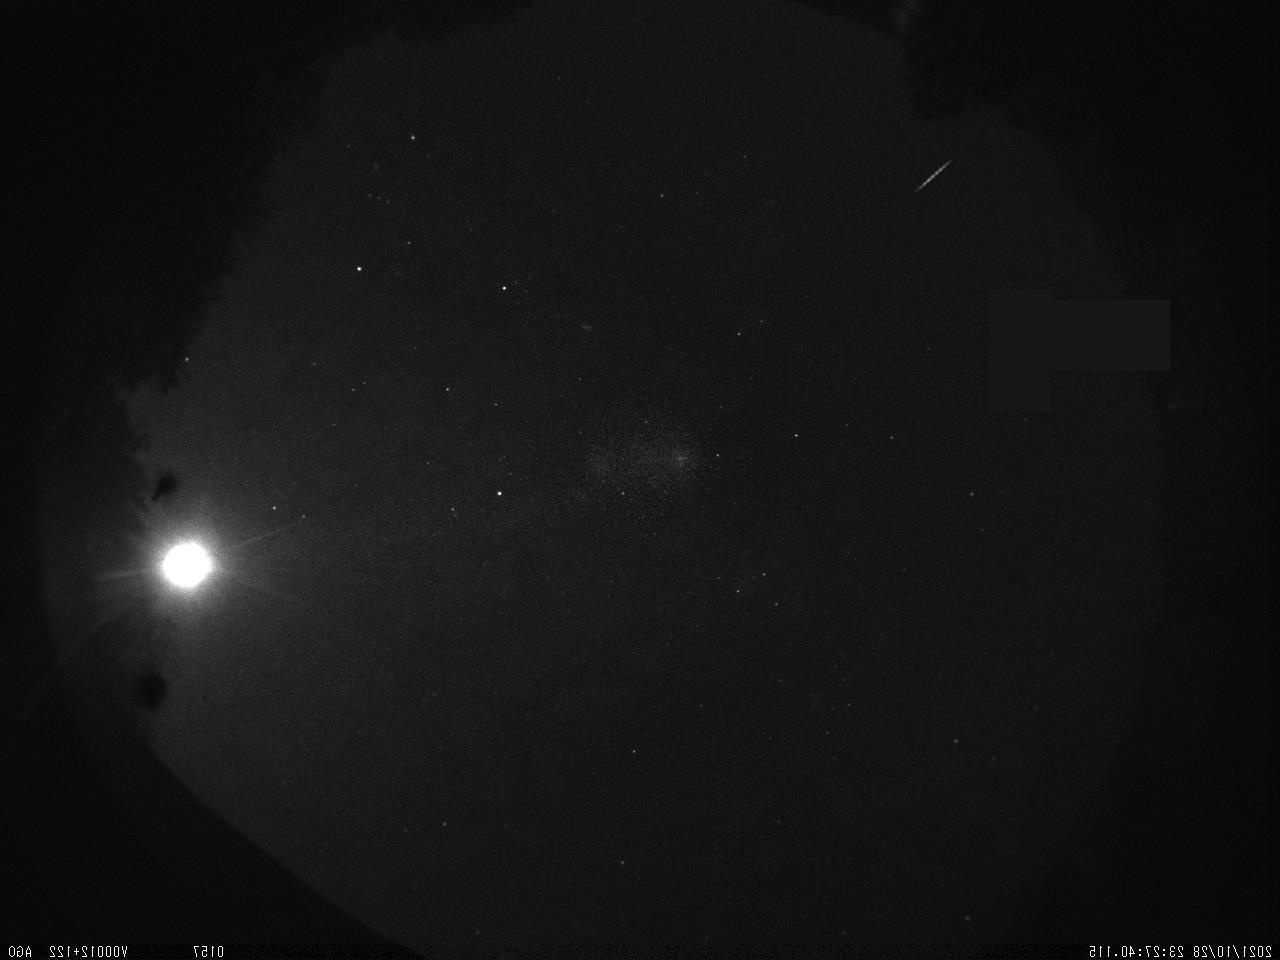meteor: (892, 148, 968, 216)
